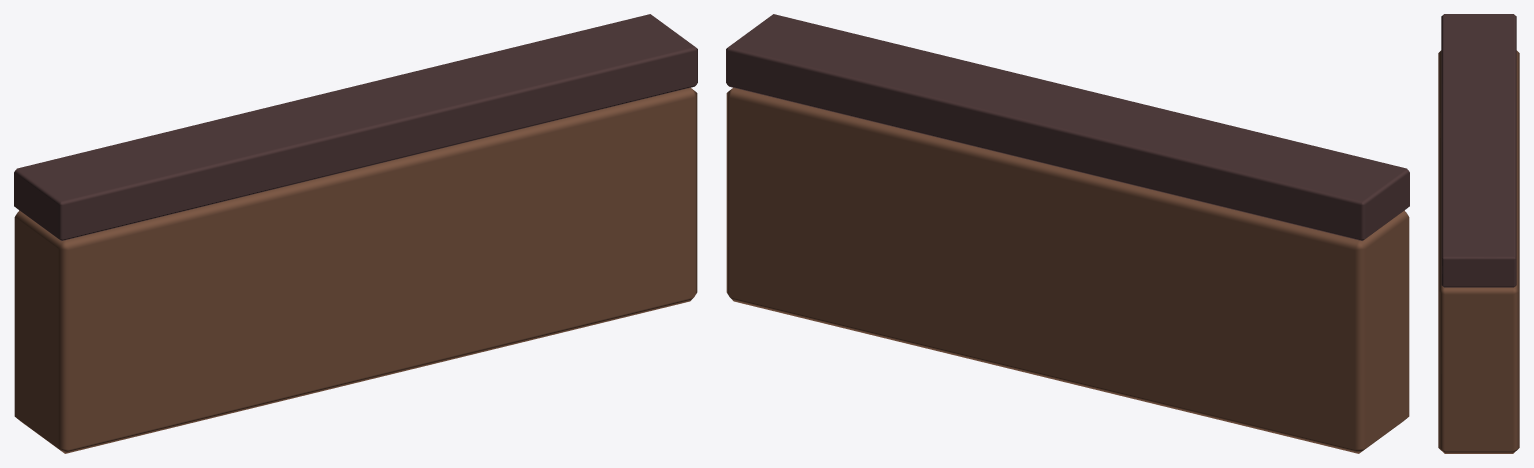
File: ghost-town-plinth.f4e8622d.glb
3 renders of one model, left to right at view 1: azimuth 30°, elevation 25°; view 2: azimuth 150°, elevation 25°; view 3: azimuth 270°, elevation 25°, orthographic. The views are drawn at different scales.
Visible parts, largest first — view 1: body; view 2: body; view 3: body.
Boxes of the visible parts, x1,y1,x2,y2 form: body: (14,14,697,453); body: (726,14,1409,453); body: (1438,14,1519,453).
Bounding box in the file's own units: 1 × 0.38 × 0.14.
